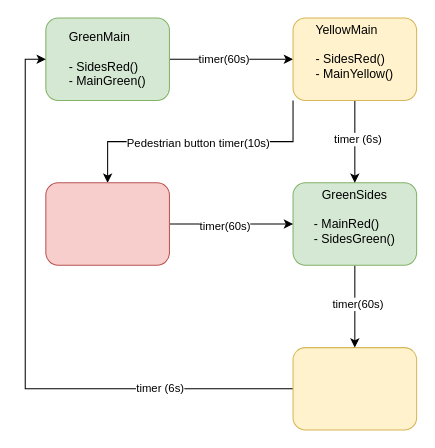
Some shapes in this 435 by 448 pixel diagram are drawn without their labels. The centre of each missing label's shape, as x and y in pixels:
"RedBoth - SidesRed() - MainRed()" goes at (107,223).
"YellowSides - MainRed() - SidesYellow()" goes at (354,388).
